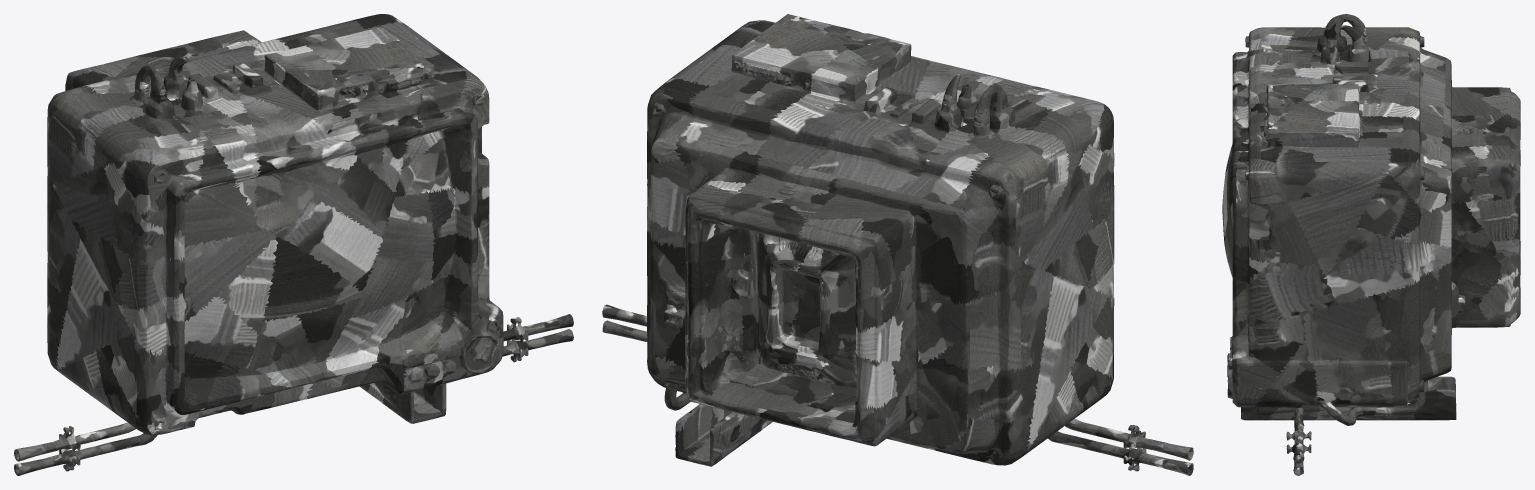
File: Store_Reduce.fbx
3 views of the same model, side by side, from view 1: azimuth 30°, elevation 25°; view 2: azimuth 150°, elevation 25°; view 3: azimuth 270°, elevation 25° (orthographic). The views are drawn at different scales.
Parts seen in each view (by area): view 1: Mesh_0; view 2: Mesh_0; view 3: Mesh_0.
Boxes of the visible parts, bbox=[...] form: Mesh_0: bbox=[14, 14, 573, 475]; Mesh_0: bbox=[602, 14, 1193, 475]; Mesh_0: bbox=[1222, 14, 1520, 475].
Size of the model in its own units: 190 by 119 by 104.
